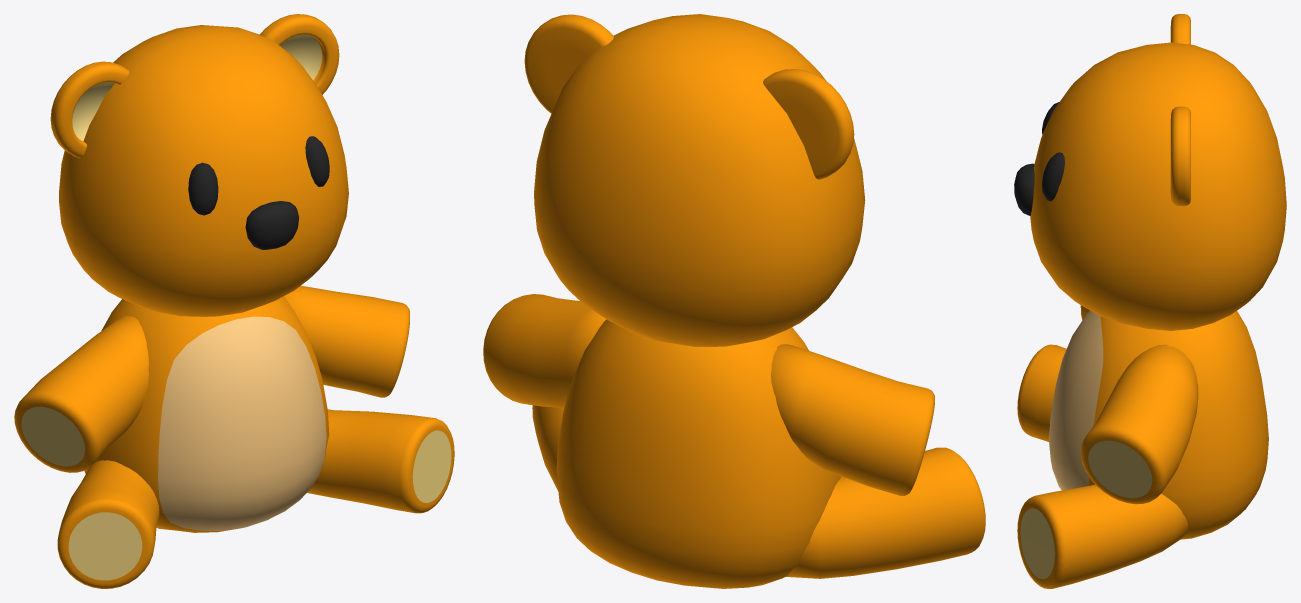
The model's file is teddy_bear.glb.
3 renders of one model, left to right at view 1: azimuth 30°, elevation 25°; view 2: azimuth 150°, elevation 25°; view 3: azimuth 270°, elevation 25°, orthographic. The views are drawn at different scales.
Parts seen in each view (by area): view 1: Cube.845; view 2: Cube.845; view 3: Cube.845.
Part boxes in pixels (<box>): Cube.845: <box>14,14,454,588</box>; Cube.845: <box>483,14,985,588</box>; Cube.845: <box>1014,14,1286,588</box>.
Size of the model in its own units: 1.84 by 2.09 by 1.13.
1 material, 1 textured.
